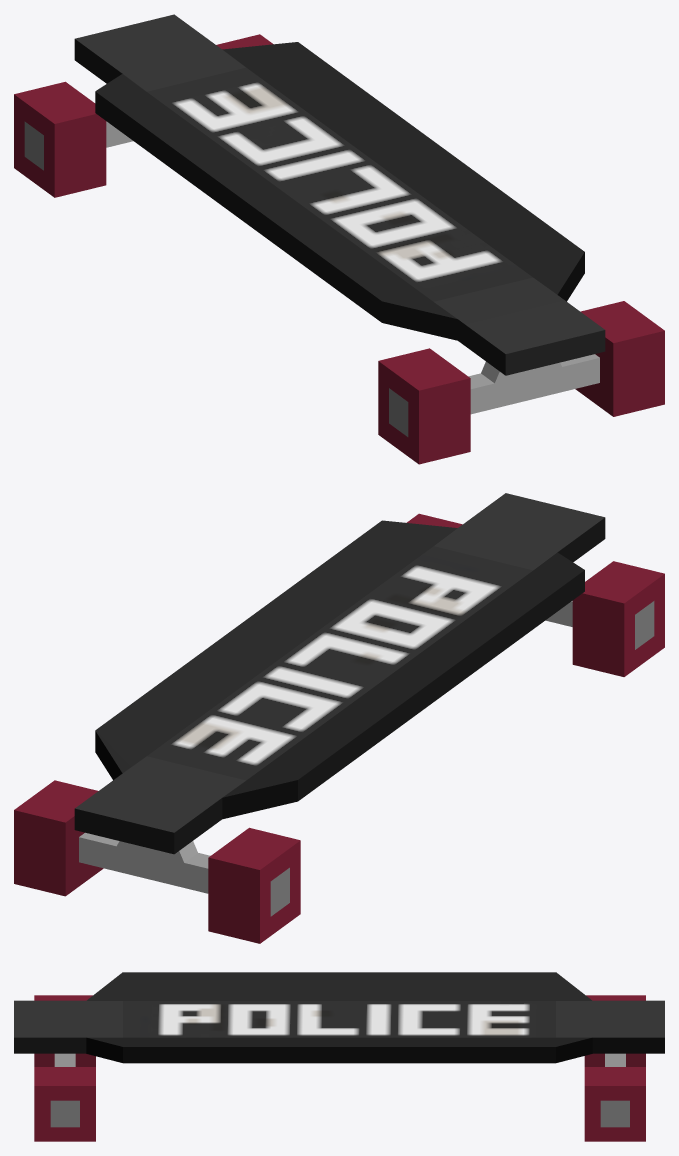
File: longboard3.fbx
3 renders of one model, top to bottom at view 1: azimuth 30°, elevation 25°; view 2: azimuth 150°, elevation 25°; view 3: azimuth 270°, elevation 25°, orthographic. The views are drawn at different scales.
Visible parts, largest first — view 1: Items_Longboard_01; view 2: Items_Longboard_01; view 3: Items_Longboard_01.
Boxes of the visible parts, box(x1,y1,x2,y2) form: Items_Longboard_01: box(14, 14, 664, 464); Items_Longboard_01: box(14, 493, 664, 943); Items_Longboard_01: box(14, 972, 664, 1141).
Bounding box in the file's own units: 68.21 × 30.49 × 207.
